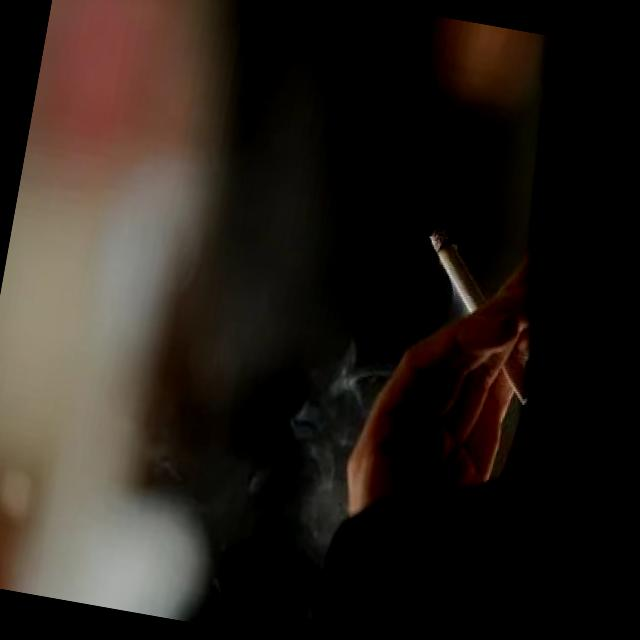cigarette: (393, 214, 558, 416)
